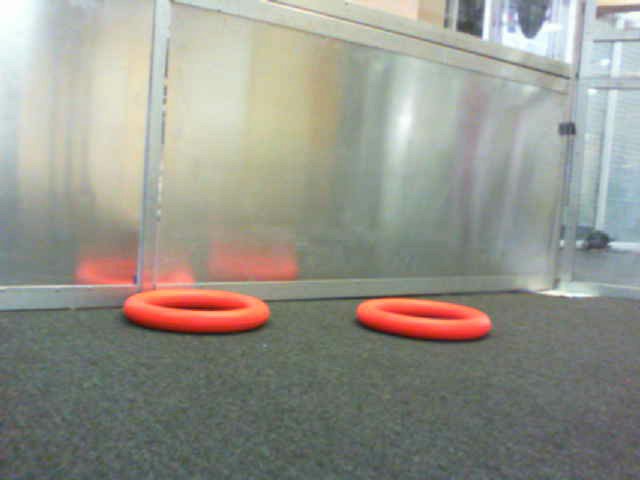Note: (126, 292, 274, 341), (364, 298, 496, 349)
